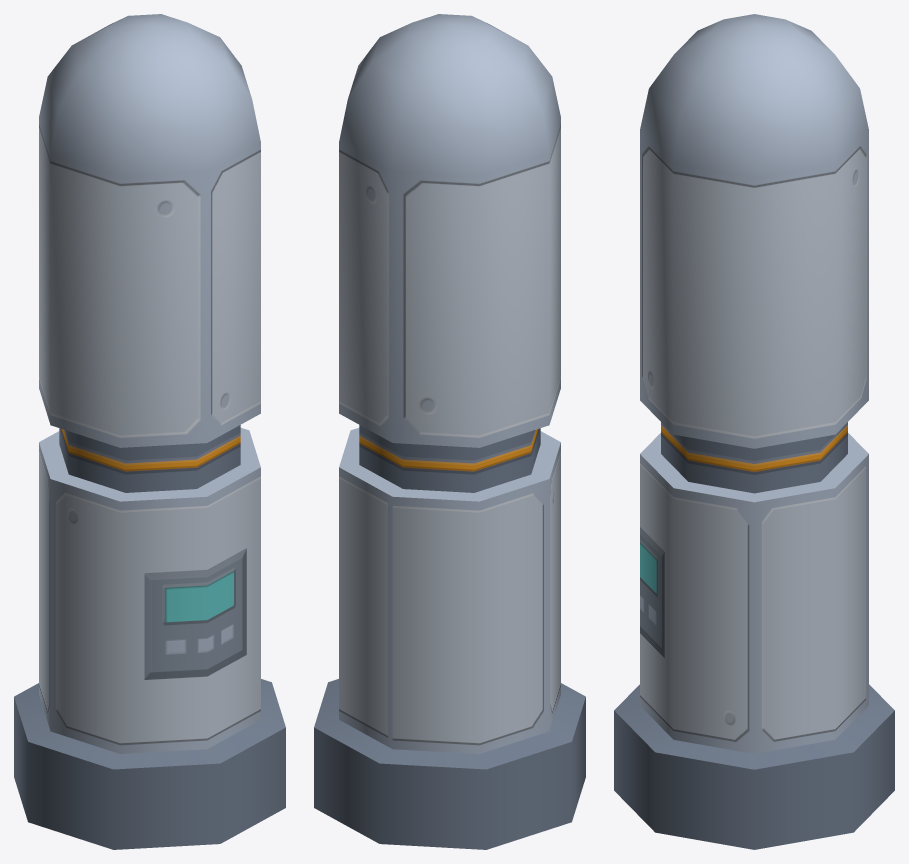
File: Envi4.dae
The picture shows the model from 3 angles, left to right: view 1: azimuth 30°, elevation 25°; view 2: azimuth 150°, elevation 25°; view 3: azimuth 270°, elevation 25°; orthographic projection.
Parts seen in each view (by area): view 1: Sphere.005; view 2: Sphere.005; view 3: Sphere.005.
Boxes of the visible parts, <box> form: Sphere.005: <box>14,14,285,849</box>; Sphere.005: <box>314,14,585,849</box>; Sphere.005: <box>614,14,894,849</box>.
Bounding box in the file's own units: 0.4713 × 0.4713 × 1.42.
